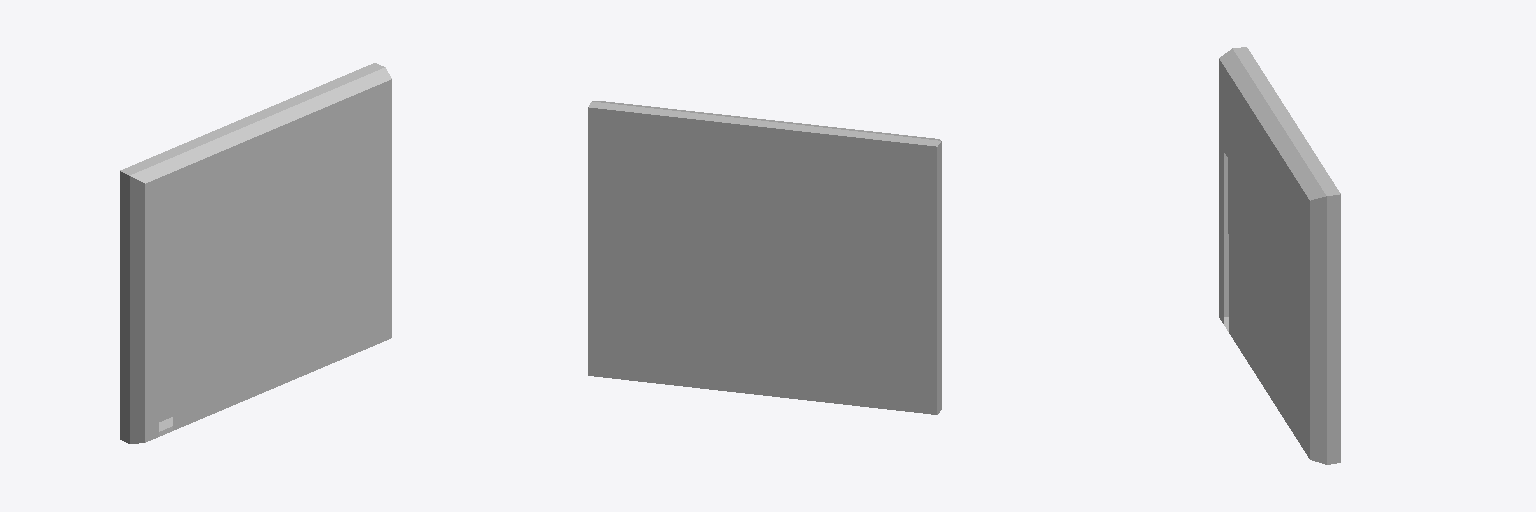
File: FridgePuertaSuperior.obj
3 views of the same model, side by side, from view 1: azimuth 30°, elevation 25°; view 2: azimuth 150°, elevation 25°; view 3: azimuth 270°, elevation 25° (orthographic).
Visible parts, largest first — view 1: polySurface3 B_Electric_0_007_1; view 2: polySurface3 B_Electric_0_007_1; view 3: polySurface3 B_Electric_0_007_1.
Part boxes in pixels (left/top/right/bottom): polySurface3 B_Electric_0_007_1: left=120, top=63, right=391, bottom=443; polySurface3 B_Electric_0_007_1: left=588, top=101, right=941, bottom=414; polySurface3 B_Electric_0_007_1: left=1219, top=47, right=1340, bottom=464.
Size of the model in its own units: 0.9287 by 0.7805 by 0.321.